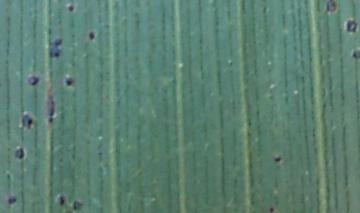tarspot: (45, 73, 56, 124), (48, 37, 64, 59), (19, 112, 34, 130), (25, 74, 40, 88), (345, 19, 357, 34), (14, 146, 26, 161), (325, 1, 336, 15), (351, 47, 360, 60), (66, 3, 76, 14), (72, 199, 81, 211), (87, 30, 96, 41), (4, 171, 12, 182), (7, 196, 16, 205), (59, 195, 66, 206), (64, 77, 72, 86), (57, 156, 66, 164), (272, 156, 282, 163), (267, 206, 274, 213), (97, 150, 102, 157)
